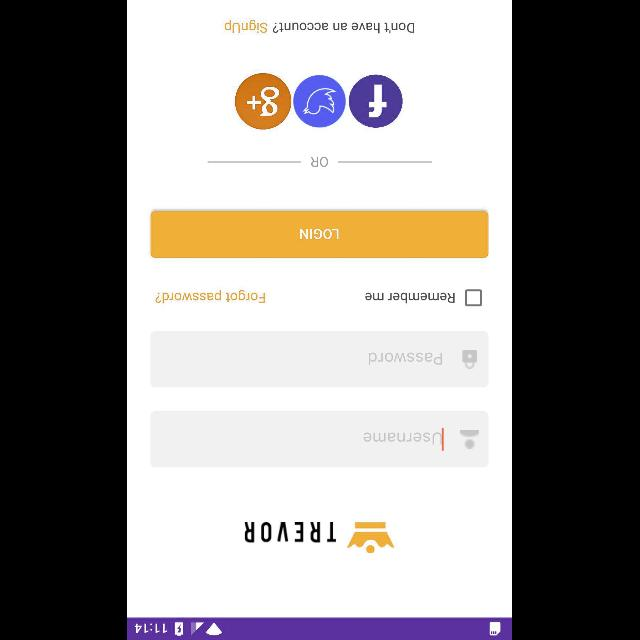checkbox: (467, 290, 483, 306)
icon: (236, 73, 292, 129), (349, 74, 403, 128), (294, 74, 346, 128), (460, 429, 480, 448), (462, 349, 478, 368)
image: (245, 522, 395, 554)
input: (151, 410, 489, 468), (151, 331, 489, 387)
text: (225, 20, 415, 34), (156, 290, 266, 304), (365, 292, 455, 304), (370, 352, 442, 366), (364, 432, 444, 444), (312, 157, 328, 167)
textbutton: (151, 210, 489, 258)
uppertaskbar: (128, 617, 512, 639)
